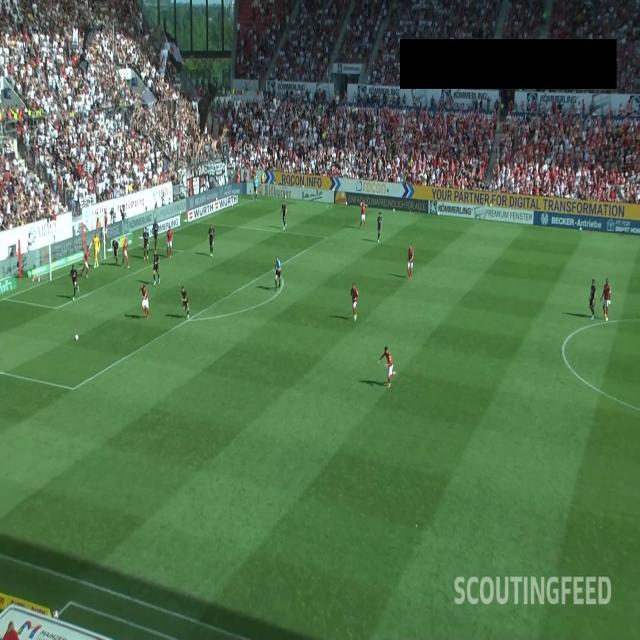ball: (75, 334, 78, 341)
